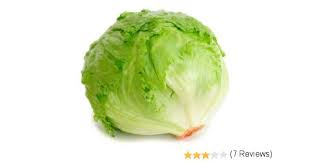lettuce: (81, 7, 228, 138)
